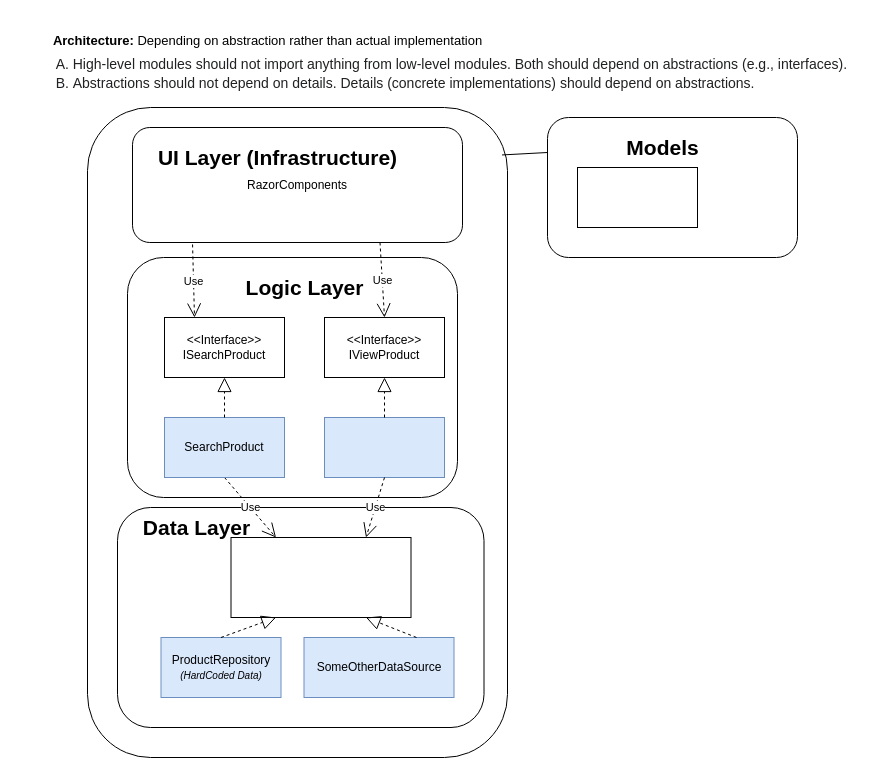
Image size: 874x775. Some labels were removed from this diagram. Each missing label, with the centre of its shape:
<<Interface>> IProductRepository: point (320, 577)
Product: point (637, 197)
ViewProduct: point (384, 447)
